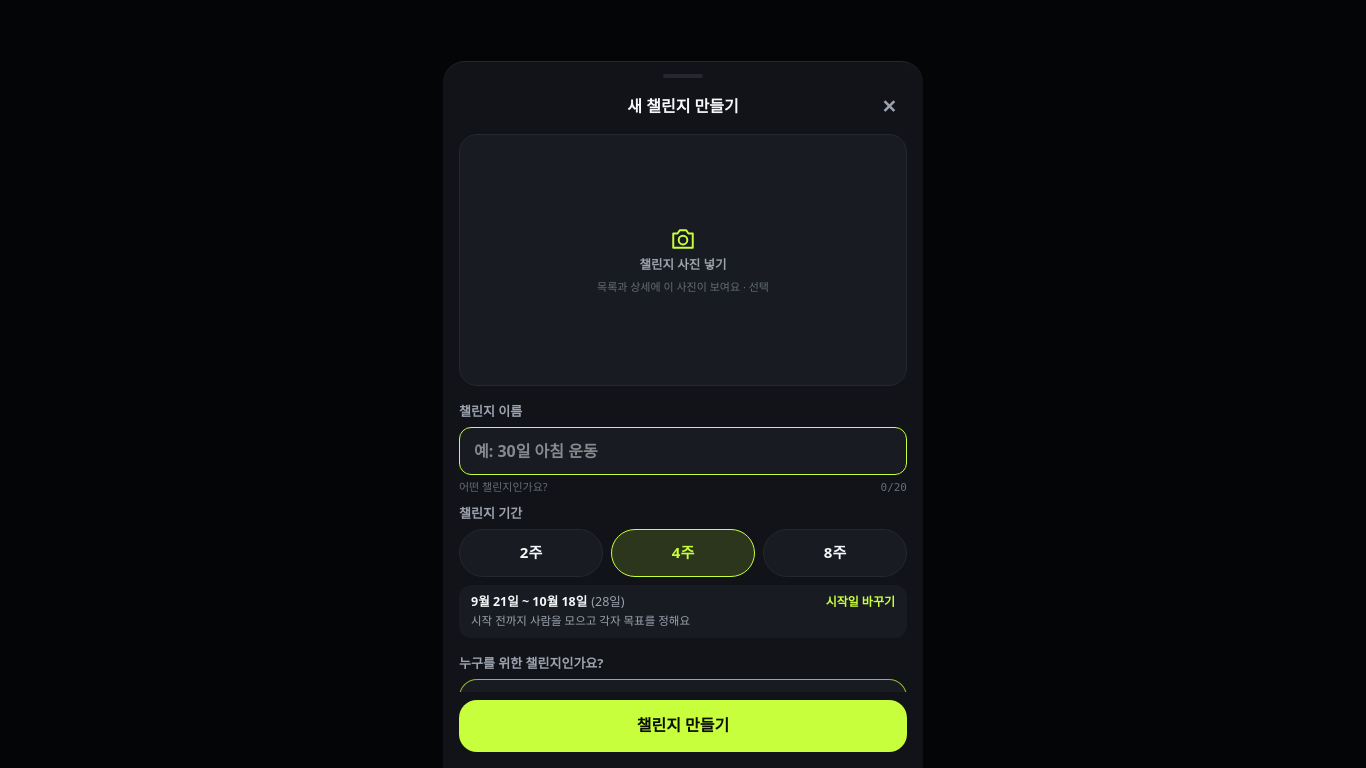
Scenario: 누구와 — 기존 기능에 옮겨 담는다 › 나 혼자 먼저 → 비공개로 바로 끝난다
Type "30일 아침 운동" into the field labelled "챌린지 이름".
click(683, 451); type("30일 아침 운동")  # box [459,427,907,475]
(page scrolled)
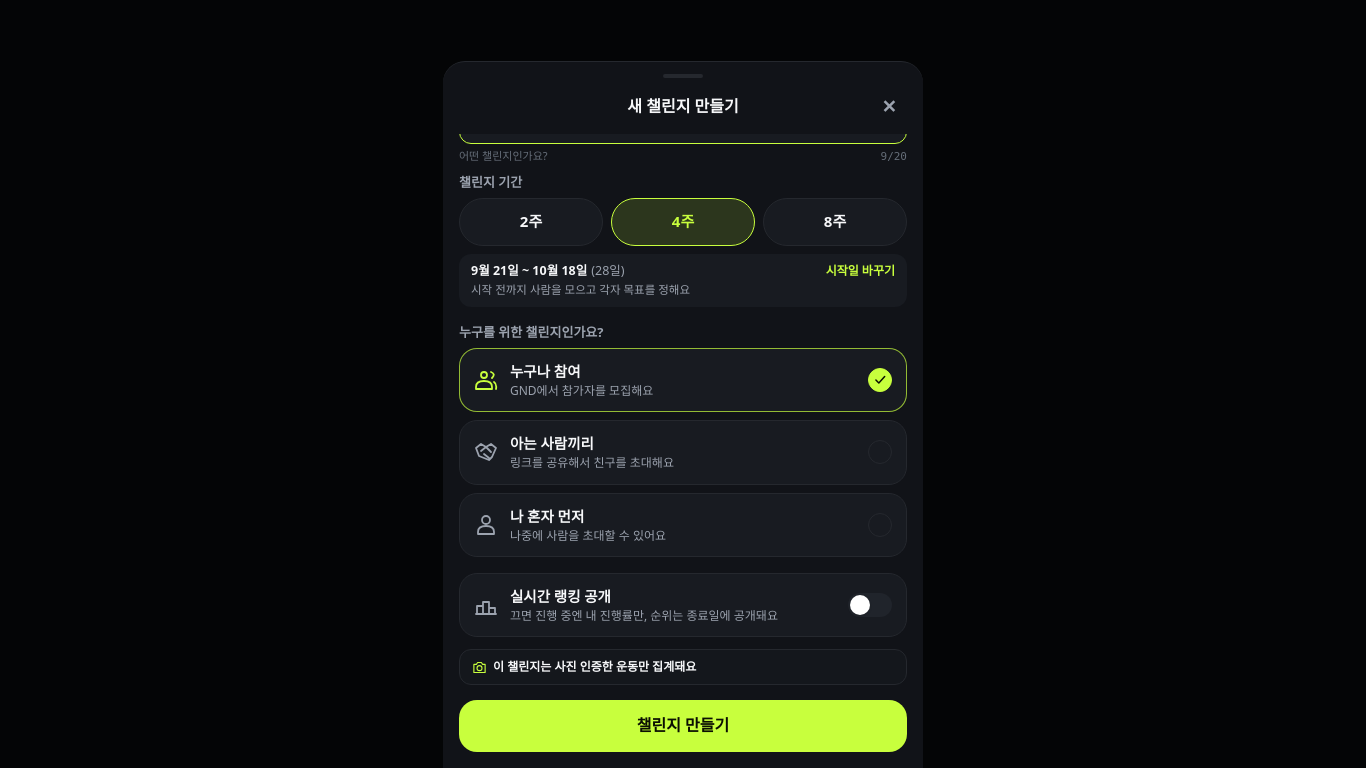
Click the radio button labelled "나 혼자 먼저 나중에 사람을 초대할 수 있어요".
click(547, 516)  # box [459,492,907,557]
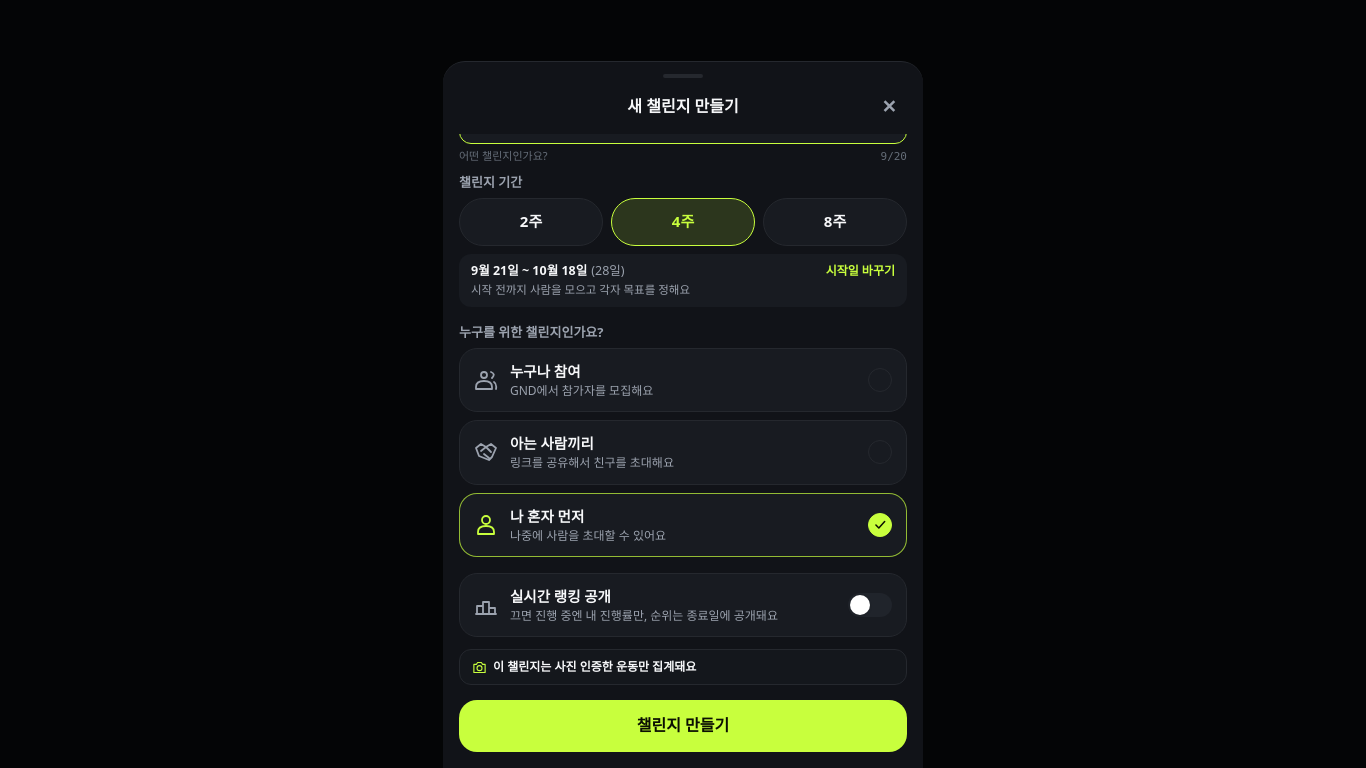
Click the button "챌린지 만들기".
click(683, 726)  # box [459,700,907,752]
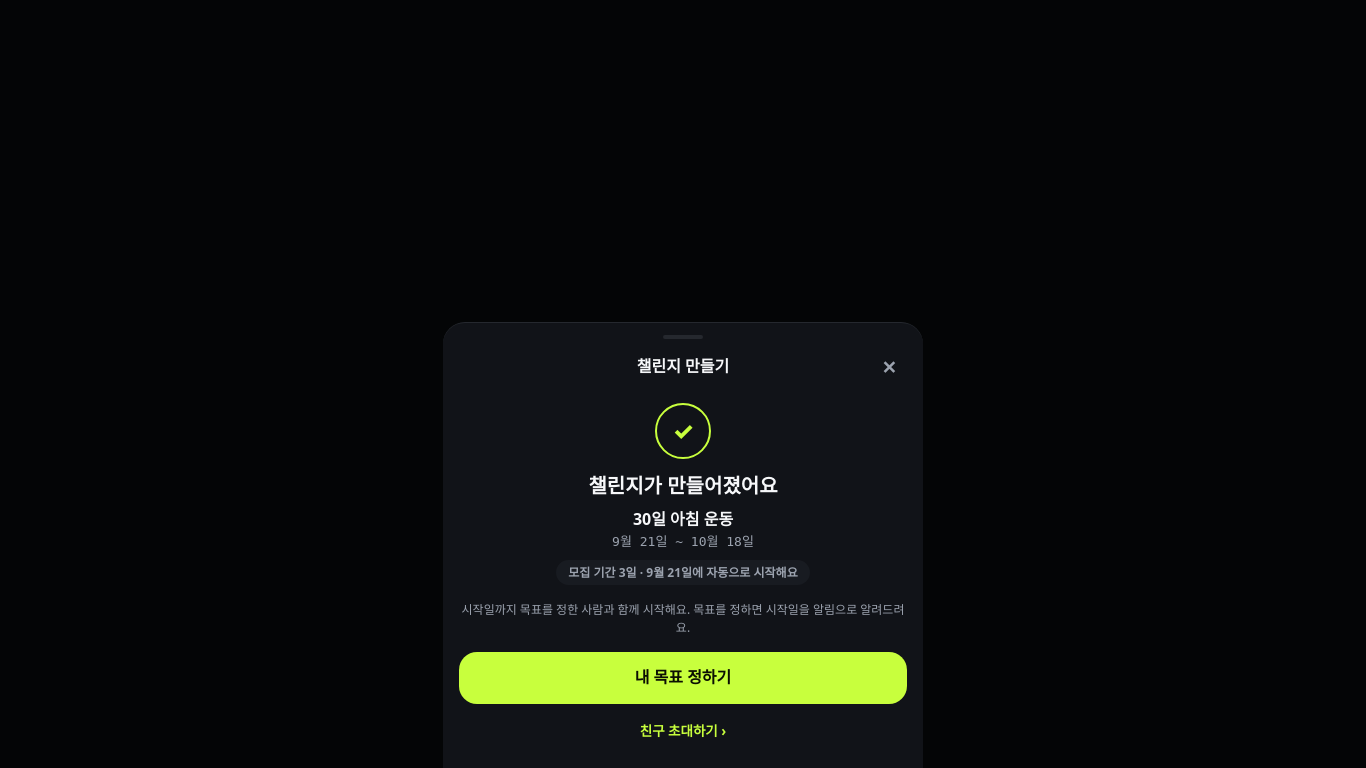
Result: the text "챌린지가 만들어졌어요" is shown at [588,471,778,500]
Result: the button "내 목표 정하기" is shown at [459,652,907,704]
